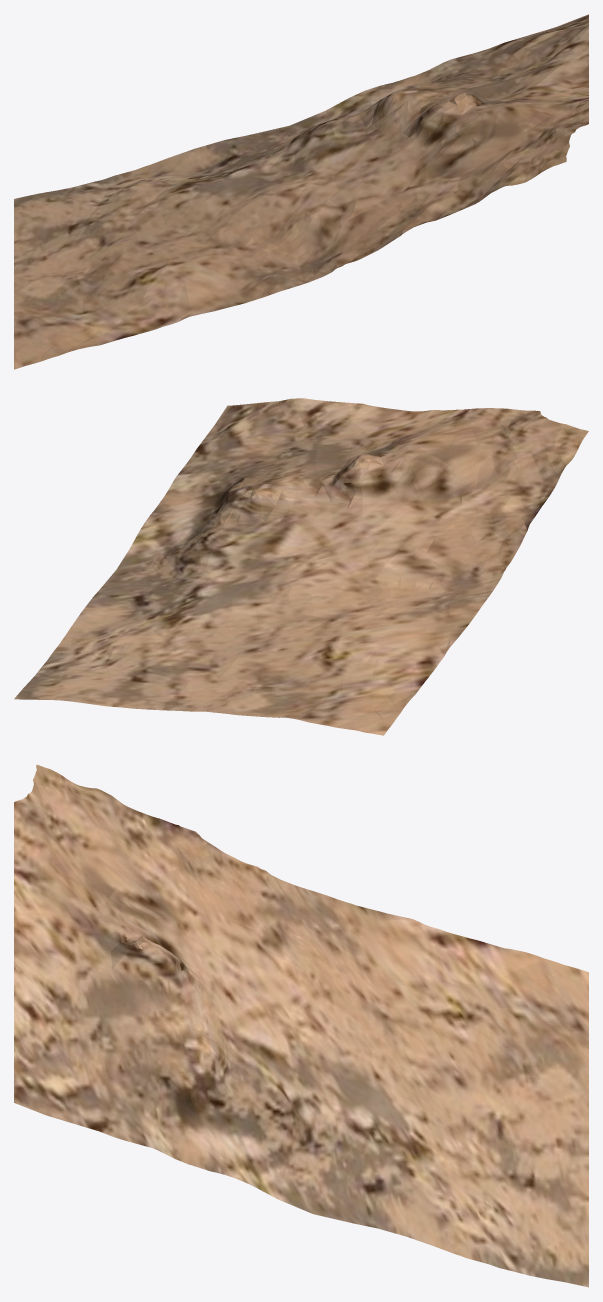
The picture shows the model from 3 angles, top to bottom: view 1: azimuth 90°, elevation 25°; view 2: azimuth 150°, elevation 25°; view 3: azimuth 270°, elevation 25°; orthographic projection. The views are drawn at different scales.
Size of the model in its own units: 1.04 by 0.5615 by 1.04.
3 materials, 3 textured.
